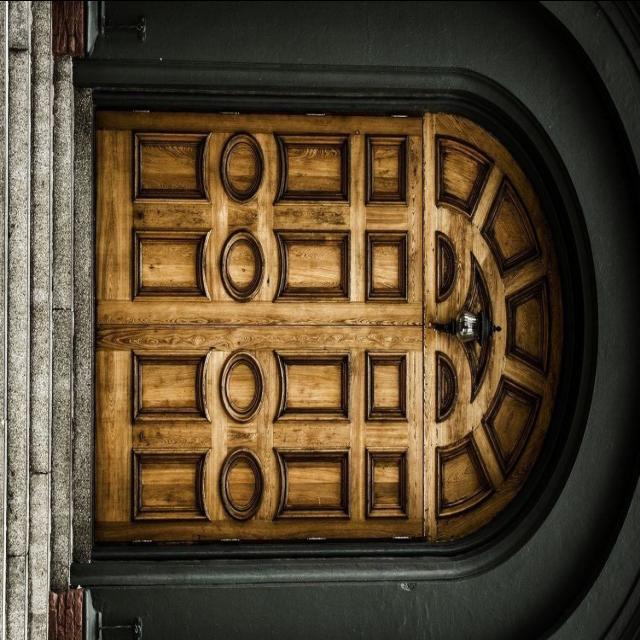close: (93, 112, 426, 554)
